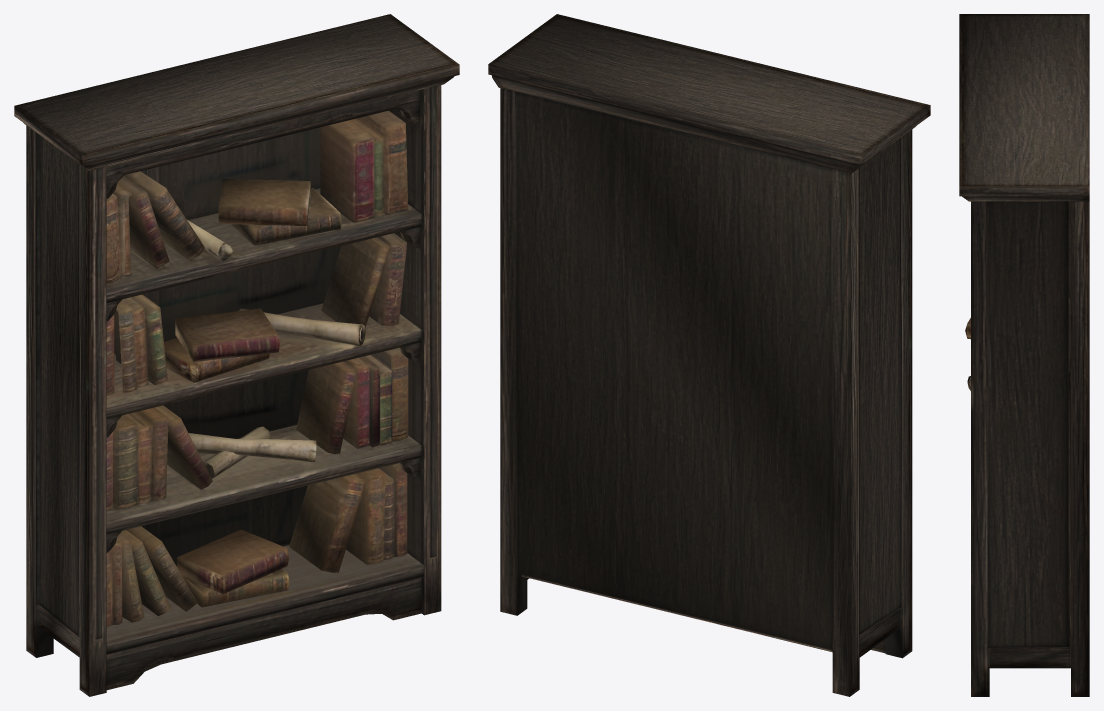
File: scaffale.fbx
The picture shows the model from 3 angles, left to right: view 1: azimuth 30°, elevation 25°; view 2: azimuth 150°, elevation 25°; view 3: azimuth 270°, elevation 25°; orthographic projection. The views are drawn at different scales.
Visible parts, largest first — view 1: tripo_node_d961c151; view 2: tripo_node_d961c151; view 3: tripo_node_d961c151.
Part boxes in pixels (x1,y1,x2,y2): tripo_node_d961c151: (14, 14, 459, 696); tripo_node_d961c151: (488, 14, 930, 696); tripo_node_d961c151: (959, 14, 1089, 696).
Size of the model in its own units: 0.7183 by 0.9995 by 0.229.
Materials: 1 (1 with a texture image).
